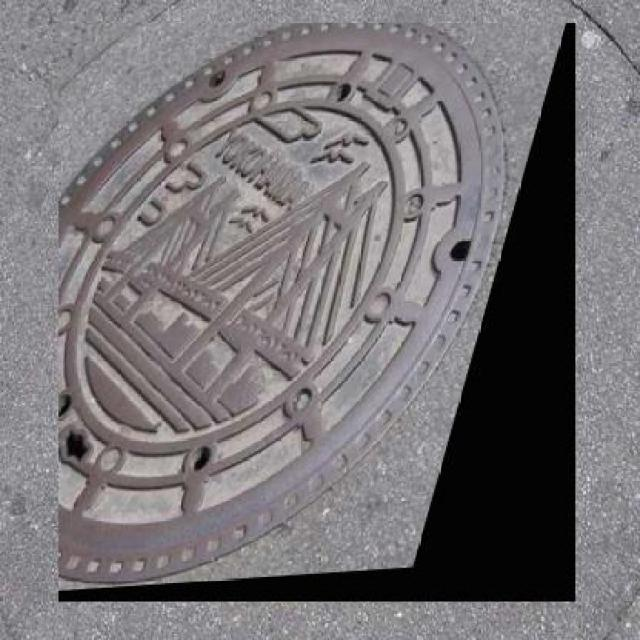Manhole: (58, 24, 576, 602)
